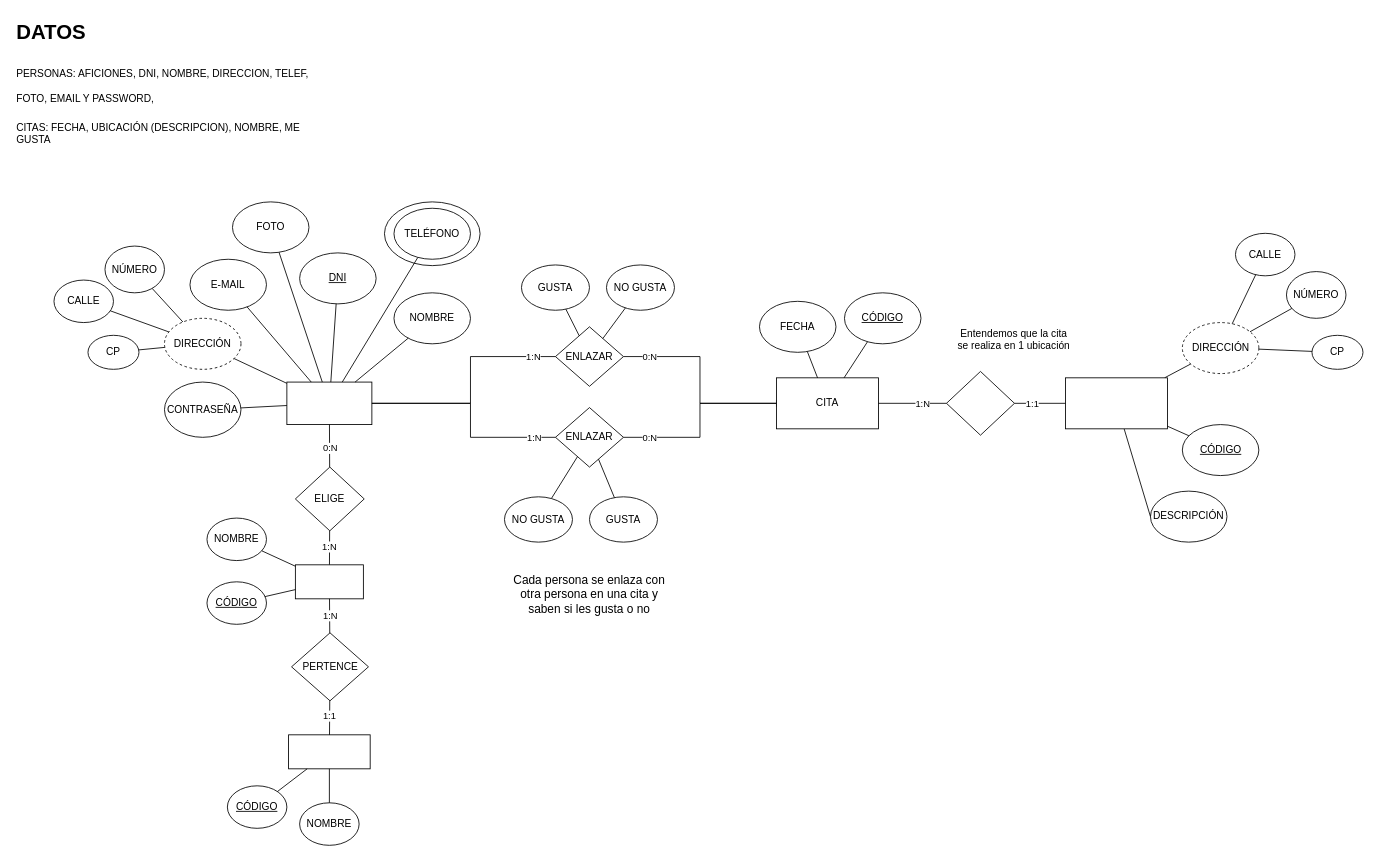
This 1378x860 diagram has some shape labels left out. Here are the shapes that lost their labels. From the top down, the box of each, then its label:
(286, 381, 372, 425): PERSONAS
(946, 371, 1014, 435): REALIZA
(1065, 377, 1167, 429): UBICACIÓN
(295, 564, 363, 599): AFICIÓN
(288, 734, 370, 769): CATEGORÍA
